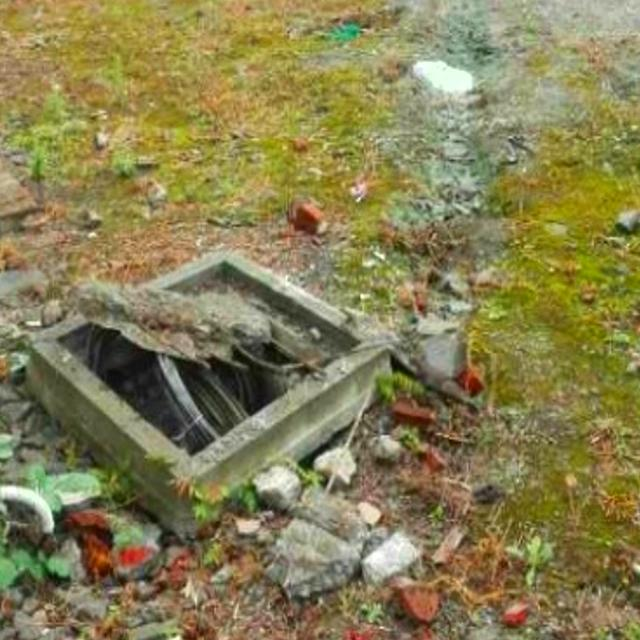broke: (28, 245, 391, 494)
